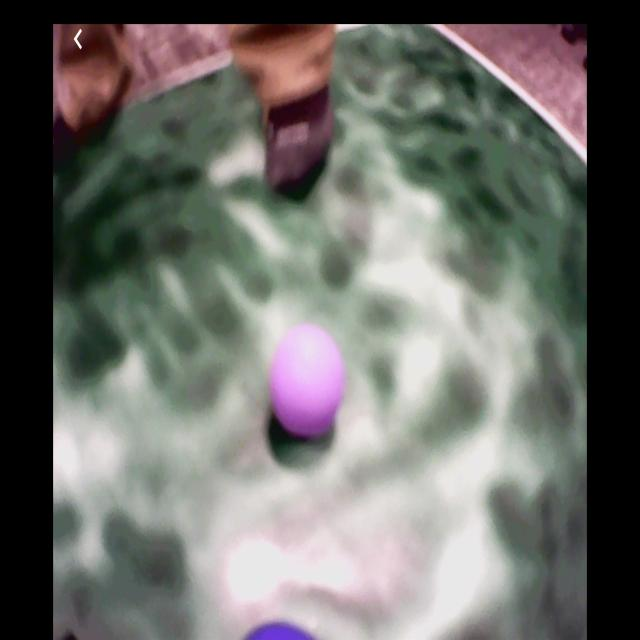ball: (270, 322, 346, 427), (237, 614, 316, 640)
